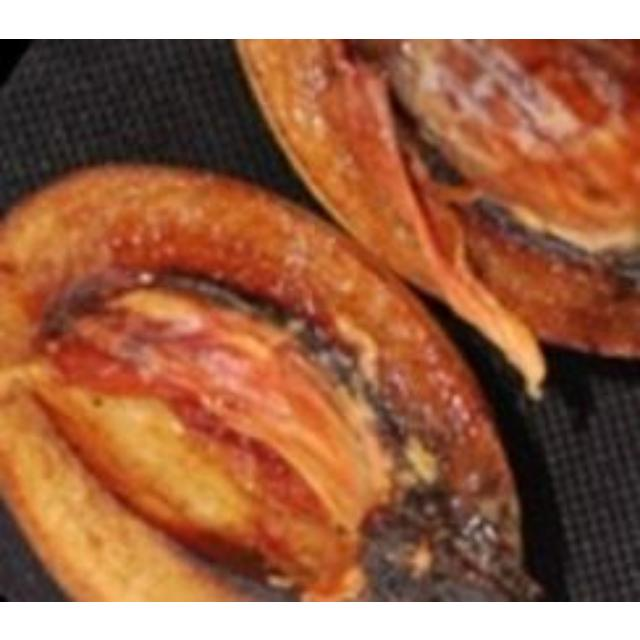damaged: (0, 167, 553, 599), (233, 38, 637, 363)
